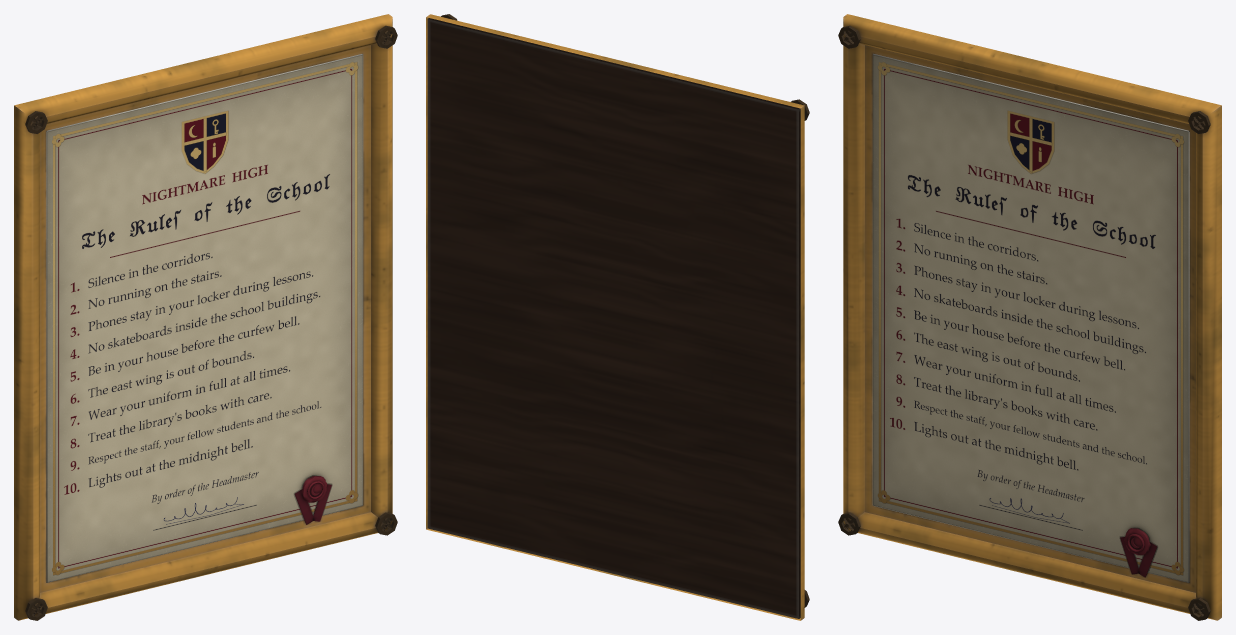
Rendered from SchoolRulesBoard.fbx.
3 views of the same model, side by side, from view 1: azimuth 30°, elevation 25°; view 2: azimuth 150°, elevation 25°; view 3: azimuth 330°, elevation 25° (orthographic).
Visible parts, largest first — view 1: SchoolRulesBoard; view 2: SchoolRulesBoard; view 3: SchoolRulesBoard.
Boxes of the visible parts, x1=… form: SchoolRulesBoard: x1=14, y1=14, x2=397, y2=620; SchoolRulesBoard: x1=426, y1=14, x2=809, y2=620; SchoolRulesBoard: x1=838, y1=14, x2=1221, y2=620.
Bounding box in the file's own units: 260 × 340 × 13.4.
